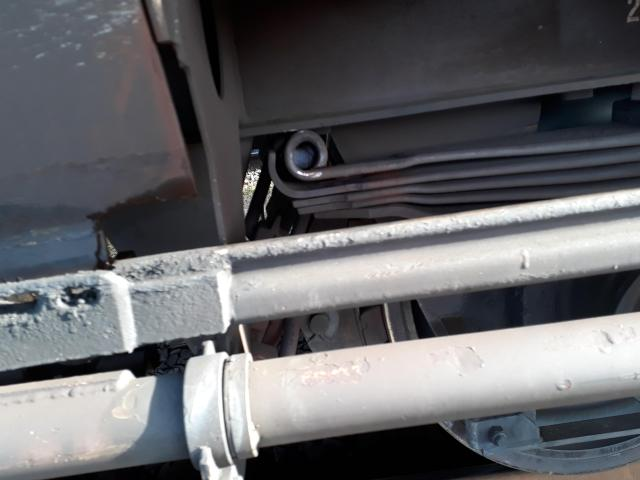blattfederww: (258, 133, 640, 188)
